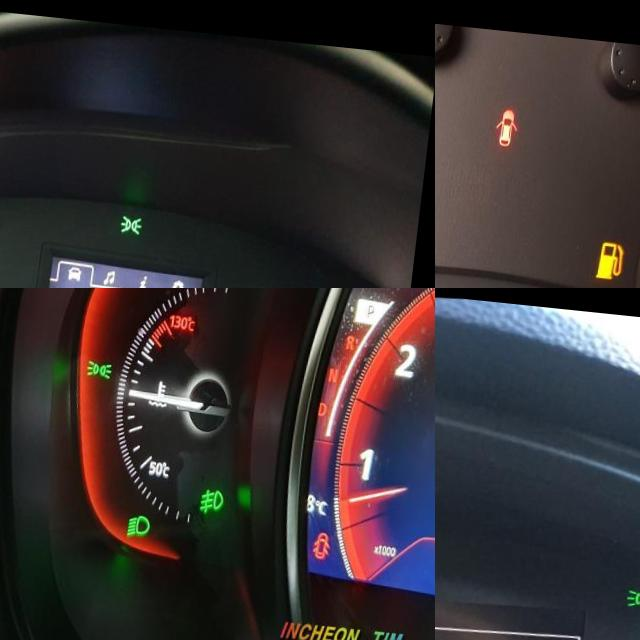Doors: (495, 99, 521, 139), (323, 519, 344, 549)
FrontFogLight: (209, 479, 234, 509)
Low beam: (136, 505, 163, 532)
Low fuel level: (599, 229, 631, 270)
SideLamp: (123, 205, 148, 228), (93, 353, 120, 373), (629, 574, 640, 599)
